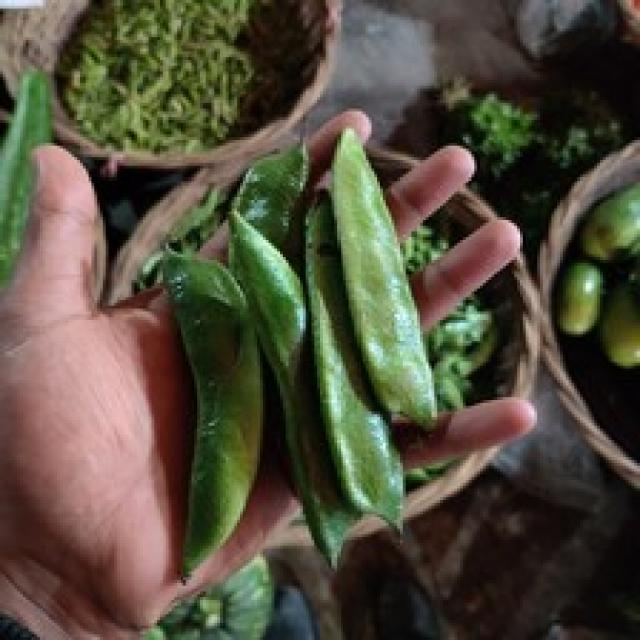Bean: (174, 128, 429, 580)
